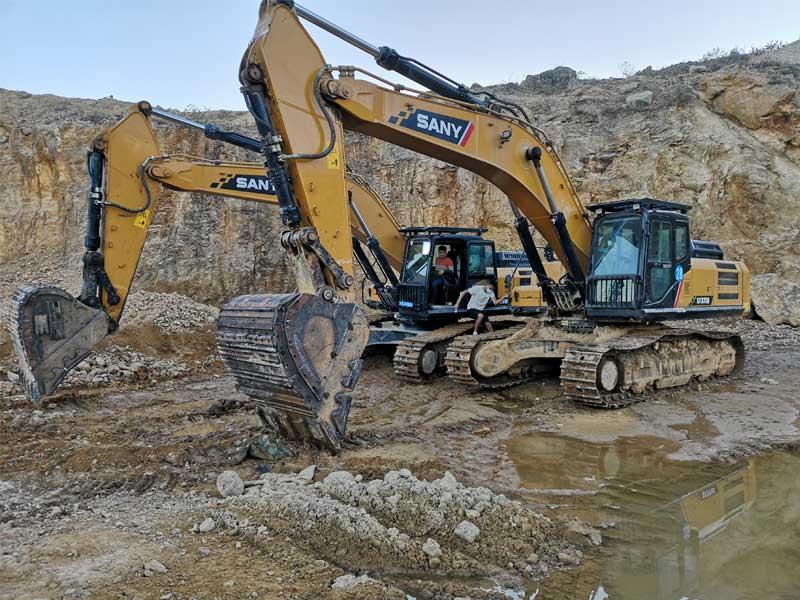excavator: (243, 0, 739, 371), (21, 117, 458, 385)
